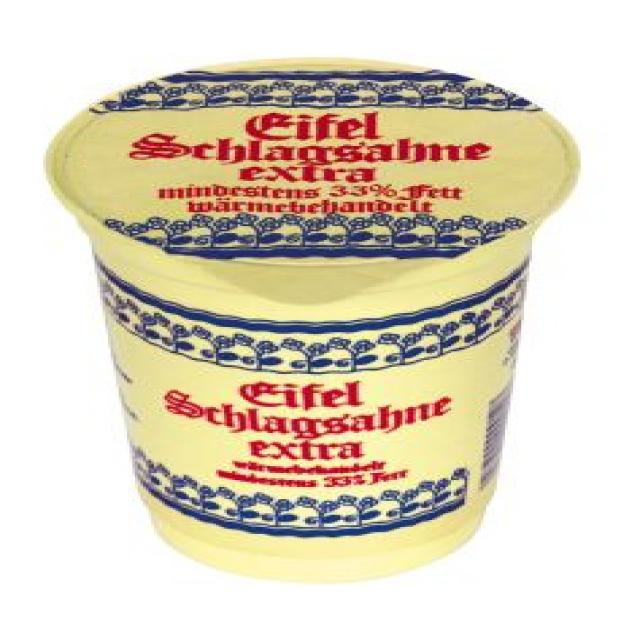cream: (51, 59, 581, 583)
